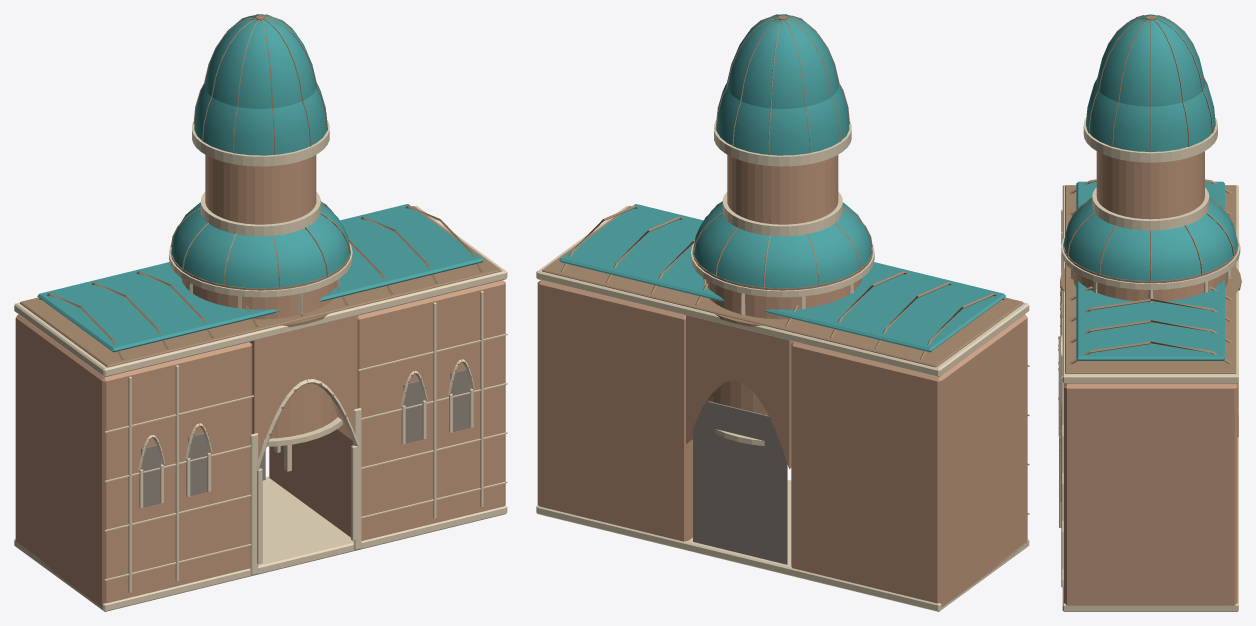
Rendered from world10-oasis-architecture.glb.
3 renders of one model, left to right at view 1: azimuth 30°, elevation 25°; view 2: azimuth 150°, elevation 25°; view 3: azimuth 270°, elevation 25°, orthographic. The views are drawn at different scales.
Parts seen in each view (by area): view 1: oasis-city-body · sandstone, oasis-city-body · ivory-carving, aqua vault, teal glass shallow dome, oasis-city-body · aged-copper, ribbed blue glass dome.003, oasis-tower-grand · sandstone, ribbed blue glass dome, oasis-pavilion · sandstone, oasis-city-body · stone-shadow, oasis-tower-grand · ivory-carving, oasis-pavilion · ivory-carving (+2 smaller); view 2: oasis-city-body · sandstone, aqua vault, oasis-city-body · stone-shadow, oasis-city-body · ivory-carving, teal glass shallow dome, oasis-city-body · aged-copper, ribbed blue glass dome.003, oasis-tower-grand · sandstone, ribbed blue glass dome, oasis-tower-grand · ivory-carving, oasis-pavilion · sandstone, oasis-pavilion · ivory-carving (+2 smaller); view 3: oasis-city-body · sandstone, aqua vault, teal glass shallow dome, ribbed blue glass dome.003, oasis-city-body · aged-copper, oasis-tower-grand · sandstone, ribbed blue glass dome, oasis-city-body · ivory-carving, oasis-tower-grand · ivory-carving, oasis-pavilion · ivory-carving, oasis-pavilion · sandstone, oasis-pavilion · aged-copper (+2 smaller).
Part boxes in pixels (x1,y1,x2,y2): oasis-city-body · sandstone: (15,280,505,607); oasis-city-body · ivory-carving: (14,205,507,611); aqua vault: (37,204,483,352); teal glass shallow dome: (171,202,349,288); oasis-city-body · aged-copper: (20,205,501,457); ribbed blue glass dome.003: (205,14,316,108); oasis-tower-grand · sandstone: (205,155,316,224); ribbed blue glass dome: (194,83,326,155); oasis-pavilion · sandstone: (181,278,340,438); oasis-city-body · stone-shadow: (141,368,470,507); oasis-tower-grand · ivory-carving: (192,120,329,236); oasis-pavilion · ivory-carving: (169,242,352,446); oasis-city-body · sandstone: (537,280,1027,607); aqua vault: (559,204,1005,352); oasis-city-body · stone-shadow: (693,401,787,564); oasis-city-body · ivory-carving: (536,206,1029,611); teal glass shallow dome: (693,202,871,288); oasis-city-body · aged-copper: (542,205,1023,367); ribbed blue glass dome.003: (727,14,838,108); oasis-tower-grand · sandstone: (727,155,838,224); ribbed blue glass dome: (716,83,849,155); oasis-tower-grand · ivory-carving: (714,120,851,236); oasis-pavilion · sandstone: (703,278,861,415); oasis-pavilion · ivory-carving: (691,242,874,445); oasis-city-body · sandstone: (1064,383,1238,605); aqua vault: (1076,181,1224,360); teal glass shallow dome: (1063,197,1237,281); ribbed blue glass dome.003: (1096,14,1205,106); oasis-city-body · aged-copper: (1058,179,1236,451); oasis-tower-grand · sandstone: (1096,151,1204,219); ribbed blue glass dome: (1086,80,1215,151); oasis-city-body · ivory-carving: (1058,185,1238,611); oasis-tower-grand · ivory-carving: (1083,117,1217,230); oasis-pavilion · ivory-carving: (1061,236,1240,302); oasis-pavilion · sandstone: (1073,271,1228,301); oasis-pavilion · aged-copper: (1060,198,1241,292).
Bounding box in the file's own units: 18 × 21.87 × 7.26.
